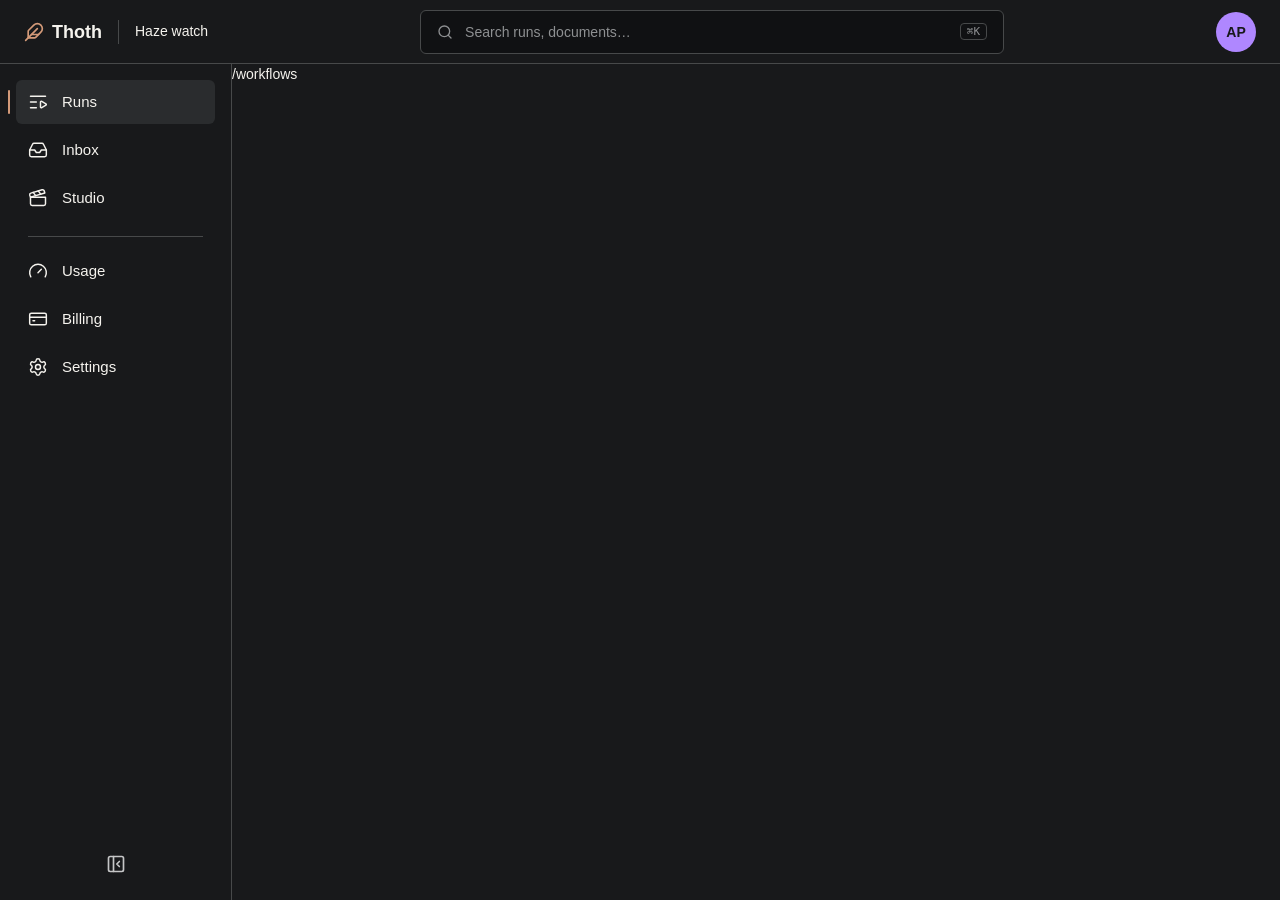
it: the language switch in the avatar menu relabels the shell and saves the choice
Expected: the link "Usage" is shown, [28,261,105,281]
Click the button with aria-label "Account menu" at (1236, 32), box [1216,12,1256,52]
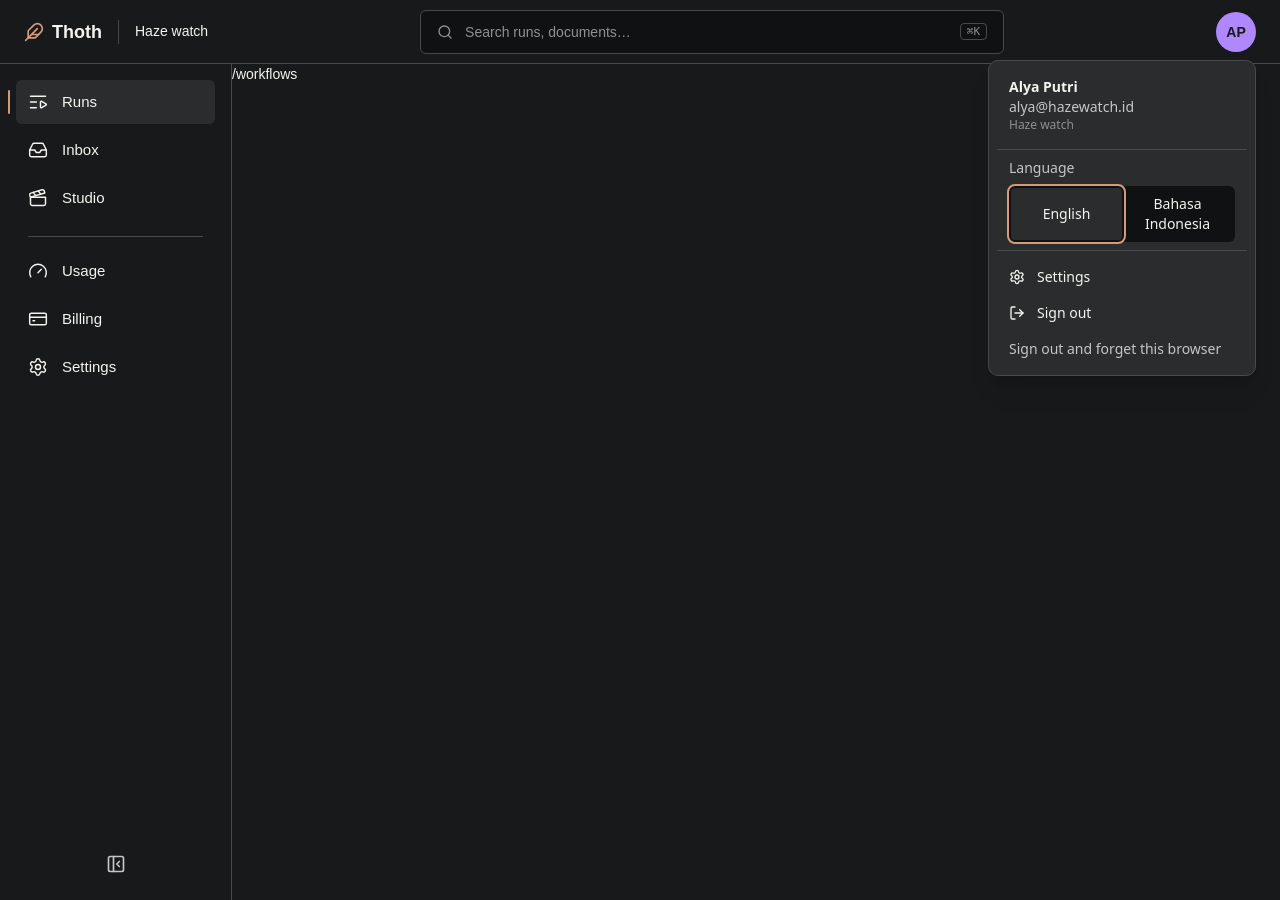
Expected: the text "alya@hazewatch.id" is shown, [1009,97,1134,116]
Click the button "Bahasa Indonesia" at (1178, 214), box [1122,188,1233,240]
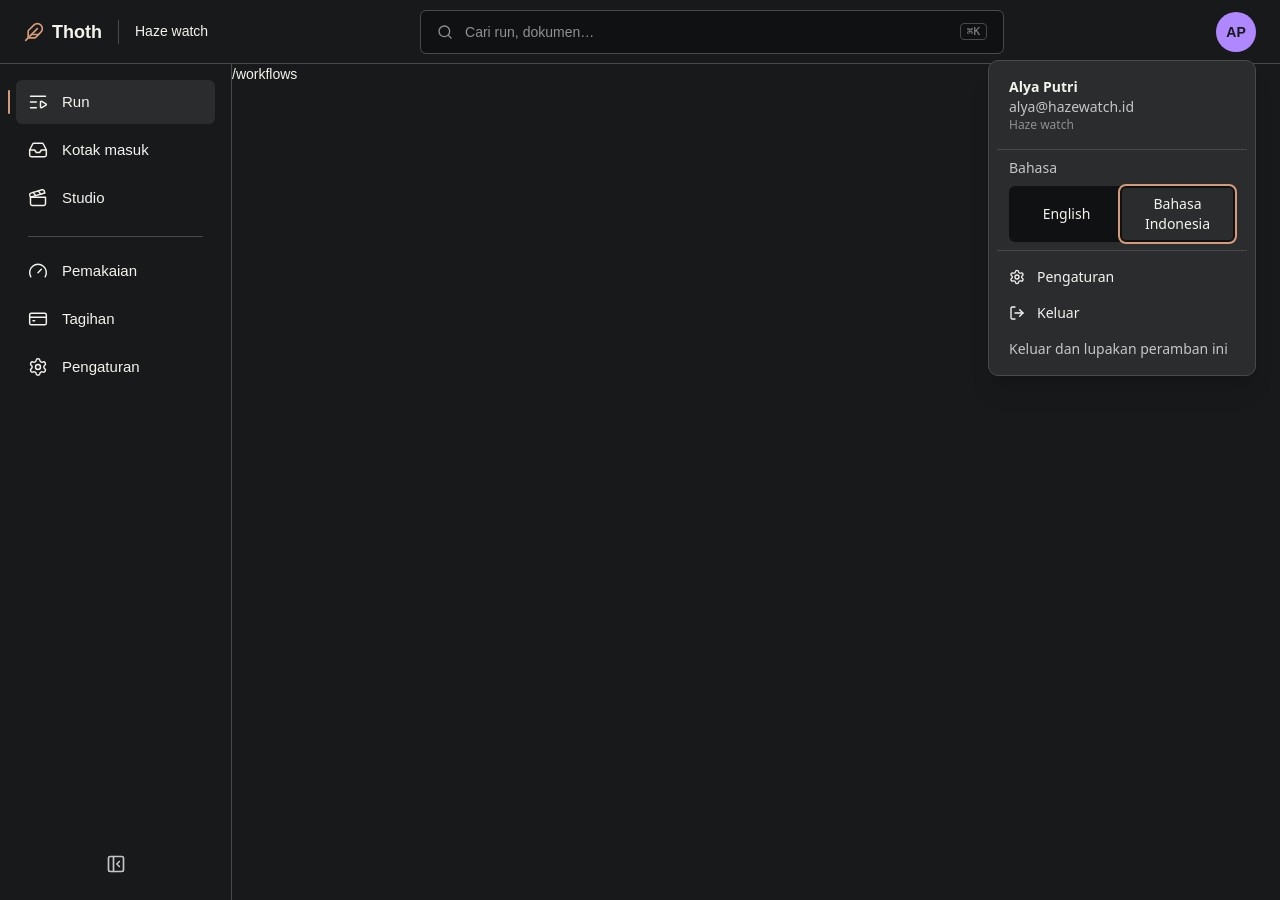
Expected: the link "Pemakaian" is shown, [28,261,137,281]
